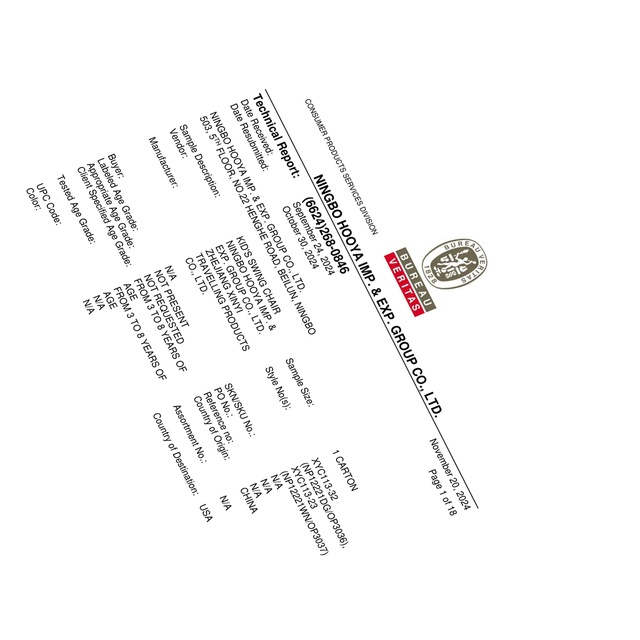bureau_veritas: (383, 235, 490, 318)
